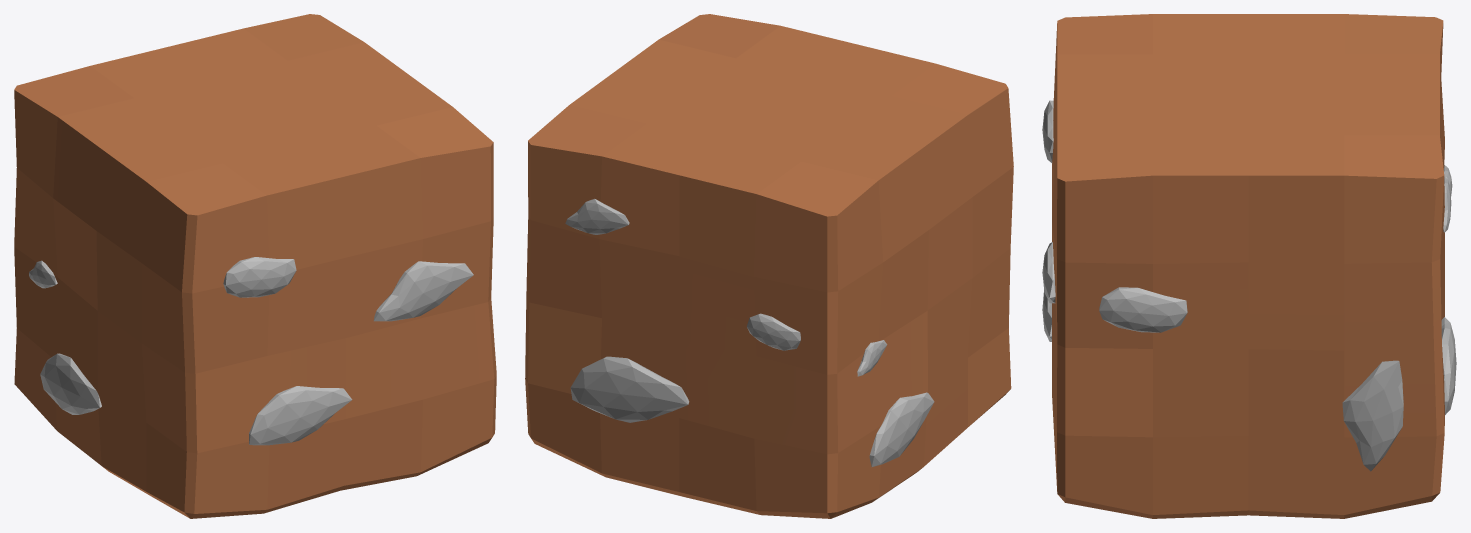
File: env-ground-tile1.fbx
3 renders of one model, left to right at view 1: azimuth 30°, elevation 25°; view 2: azimuth 150°, elevation 25°; view 3: azimuth 270°, elevation 25°, orthographic. The views are drawn at different scales.
Parts seen in each view (by area): view 1: land.559; view 2: land.559; view 3: land.559.
Boxes of the visible parts, bbox=[...] form: land.559: bbox=[14, 14, 496, 518]; land.559: bbox=[525, 14, 1013, 518]; land.559: bbox=[1042, 14, 1456, 518].
Bounding box in the file's own units: 637 × 602 × 639.
